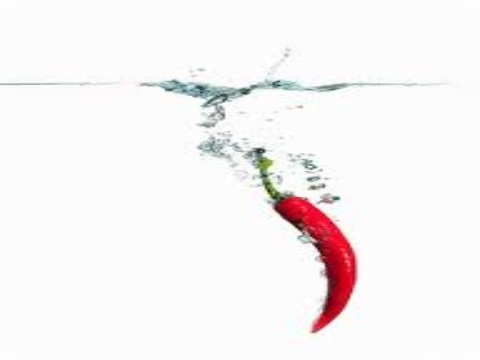Chilli: (242, 148, 367, 338)
